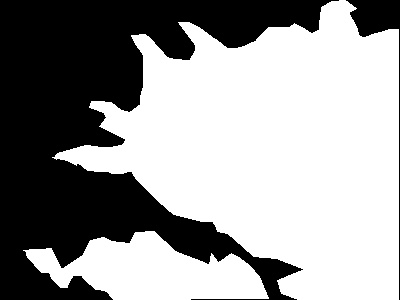Fire: (179, 21, 400, 173), (25, 246, 219, 300), (54, 140, 204, 177)
